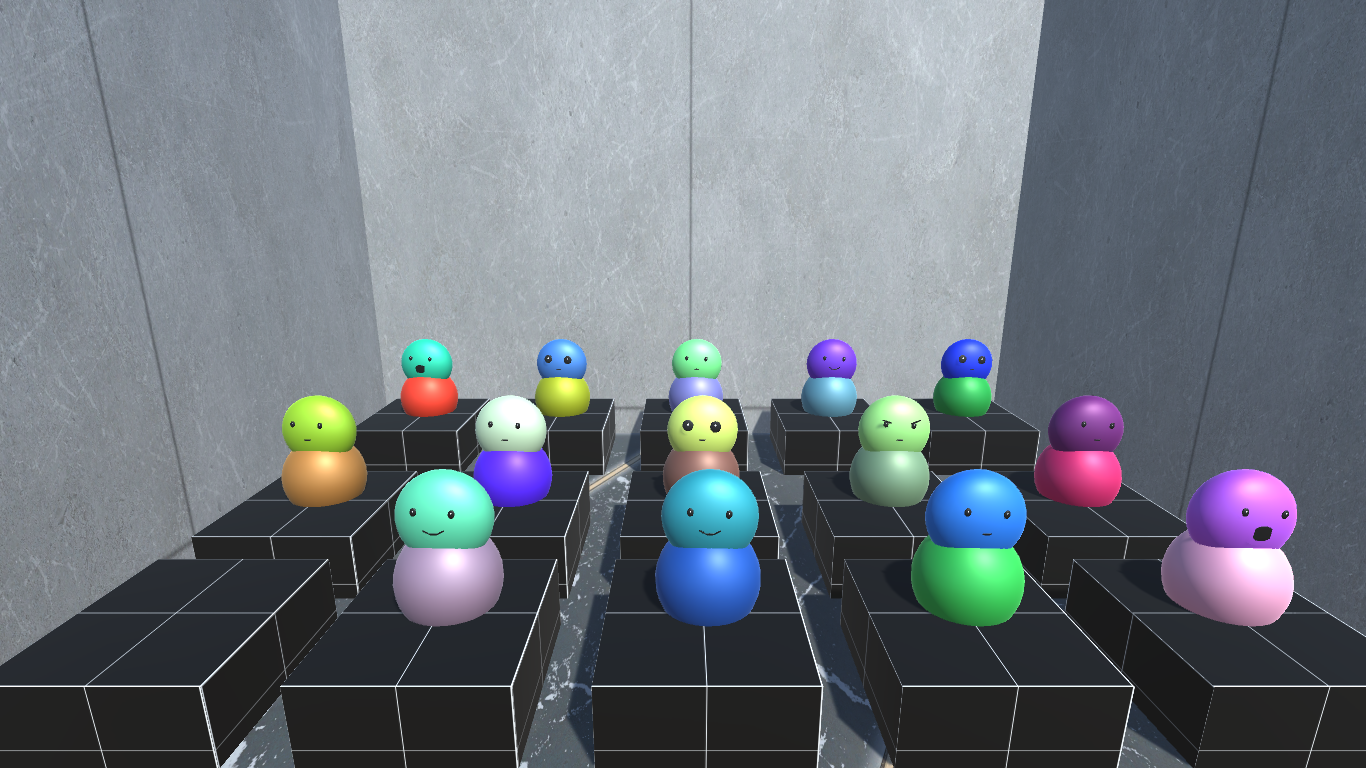blob_atento: (664, 398, 737, 448), (528, 334, 587, 380), (940, 334, 995, 382)
blob_feliz: (654, 464, 760, 551), (391, 466, 491, 556), (808, 337, 857, 383)
blob_normal: (920, 465, 1034, 559), (1043, 388, 1128, 456), (469, 392, 551, 457), (275, 391, 359, 453), (668, 332, 723, 381)
blob_raiva: (857, 392, 933, 453)
blob_surpreso: (1178, 462, 1301, 558), (395, 337, 456, 378)
